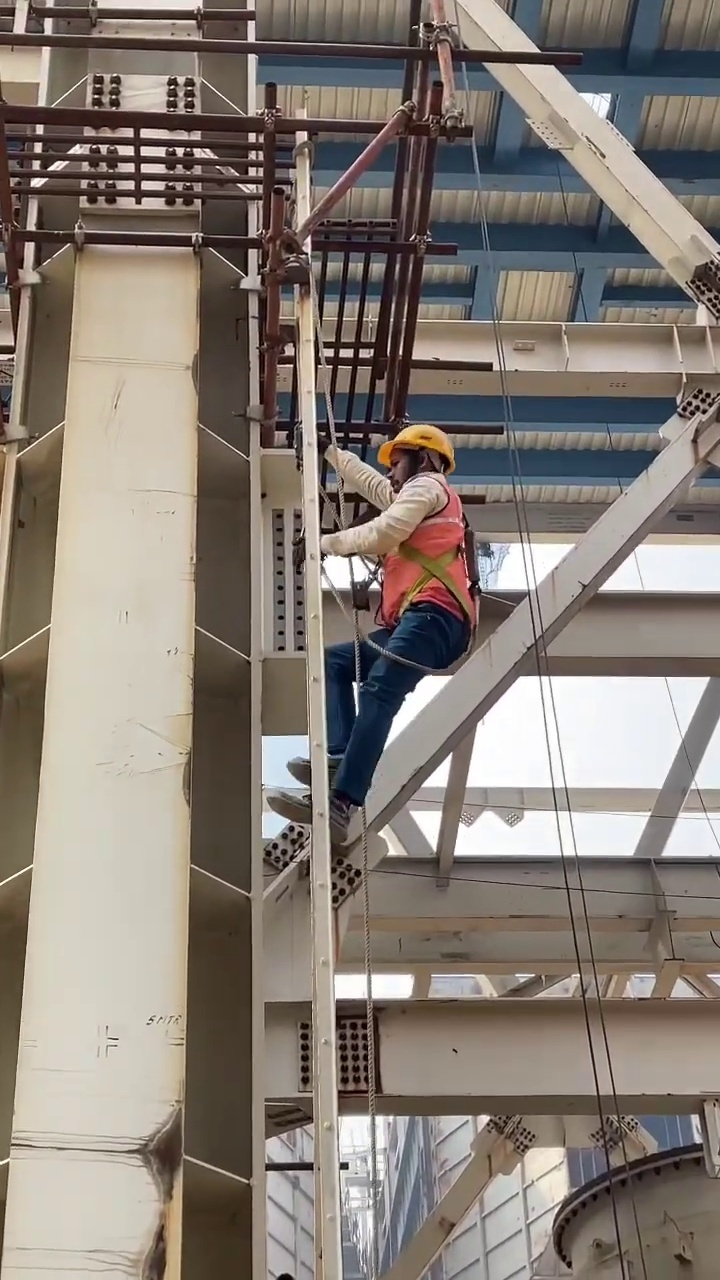Helmet: (380, 422, 459, 467)
Person: (257, 422, 475, 832)
Safety_Harness: (340, 473, 477, 675)
Safety_shoes: (267, 788, 352, 844), (288, 752, 355, 787)
